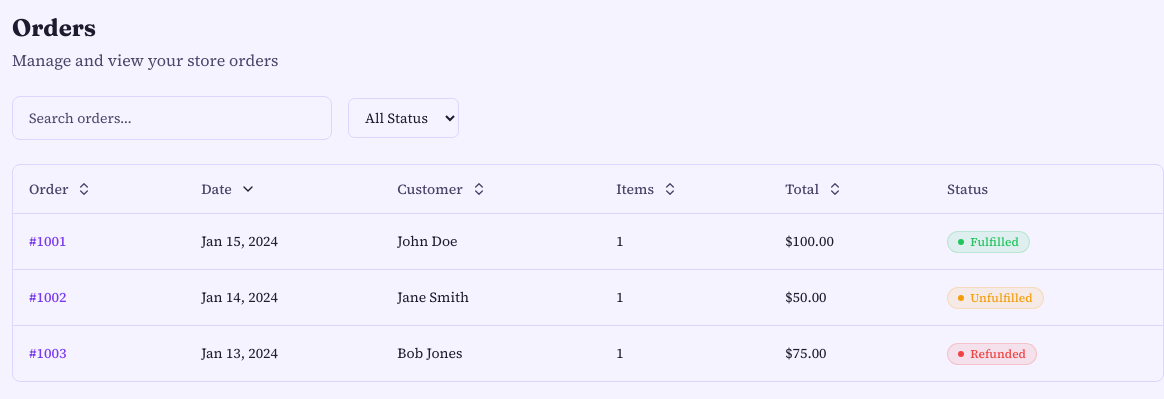
Test case: OrdersPage › filters orders by search query
Step 1. Type "John" into the field with placeholder "Search orders..." → {"x": 172, "y": 118}, box [12, 96, 332, 140]
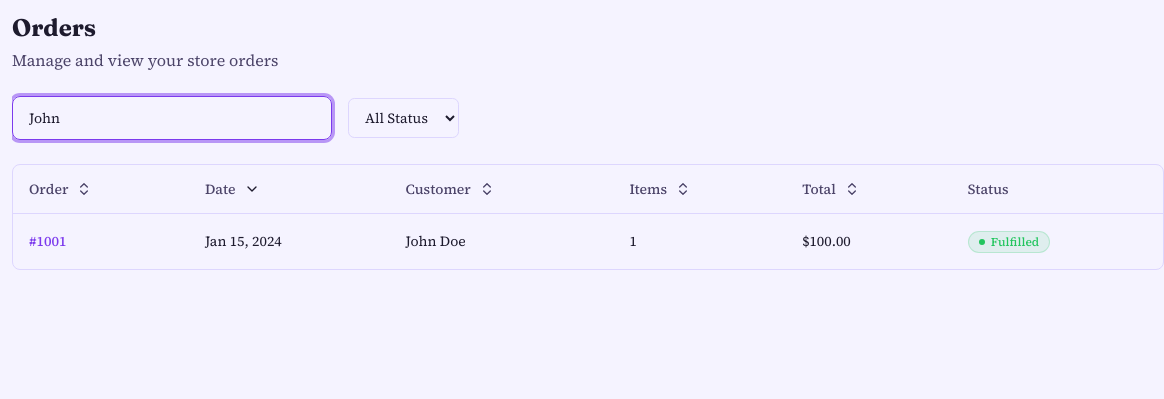
Expected: the link "#1001" is shown, [29, 231, 67, 251]
Result: the link "#1002" is gone
